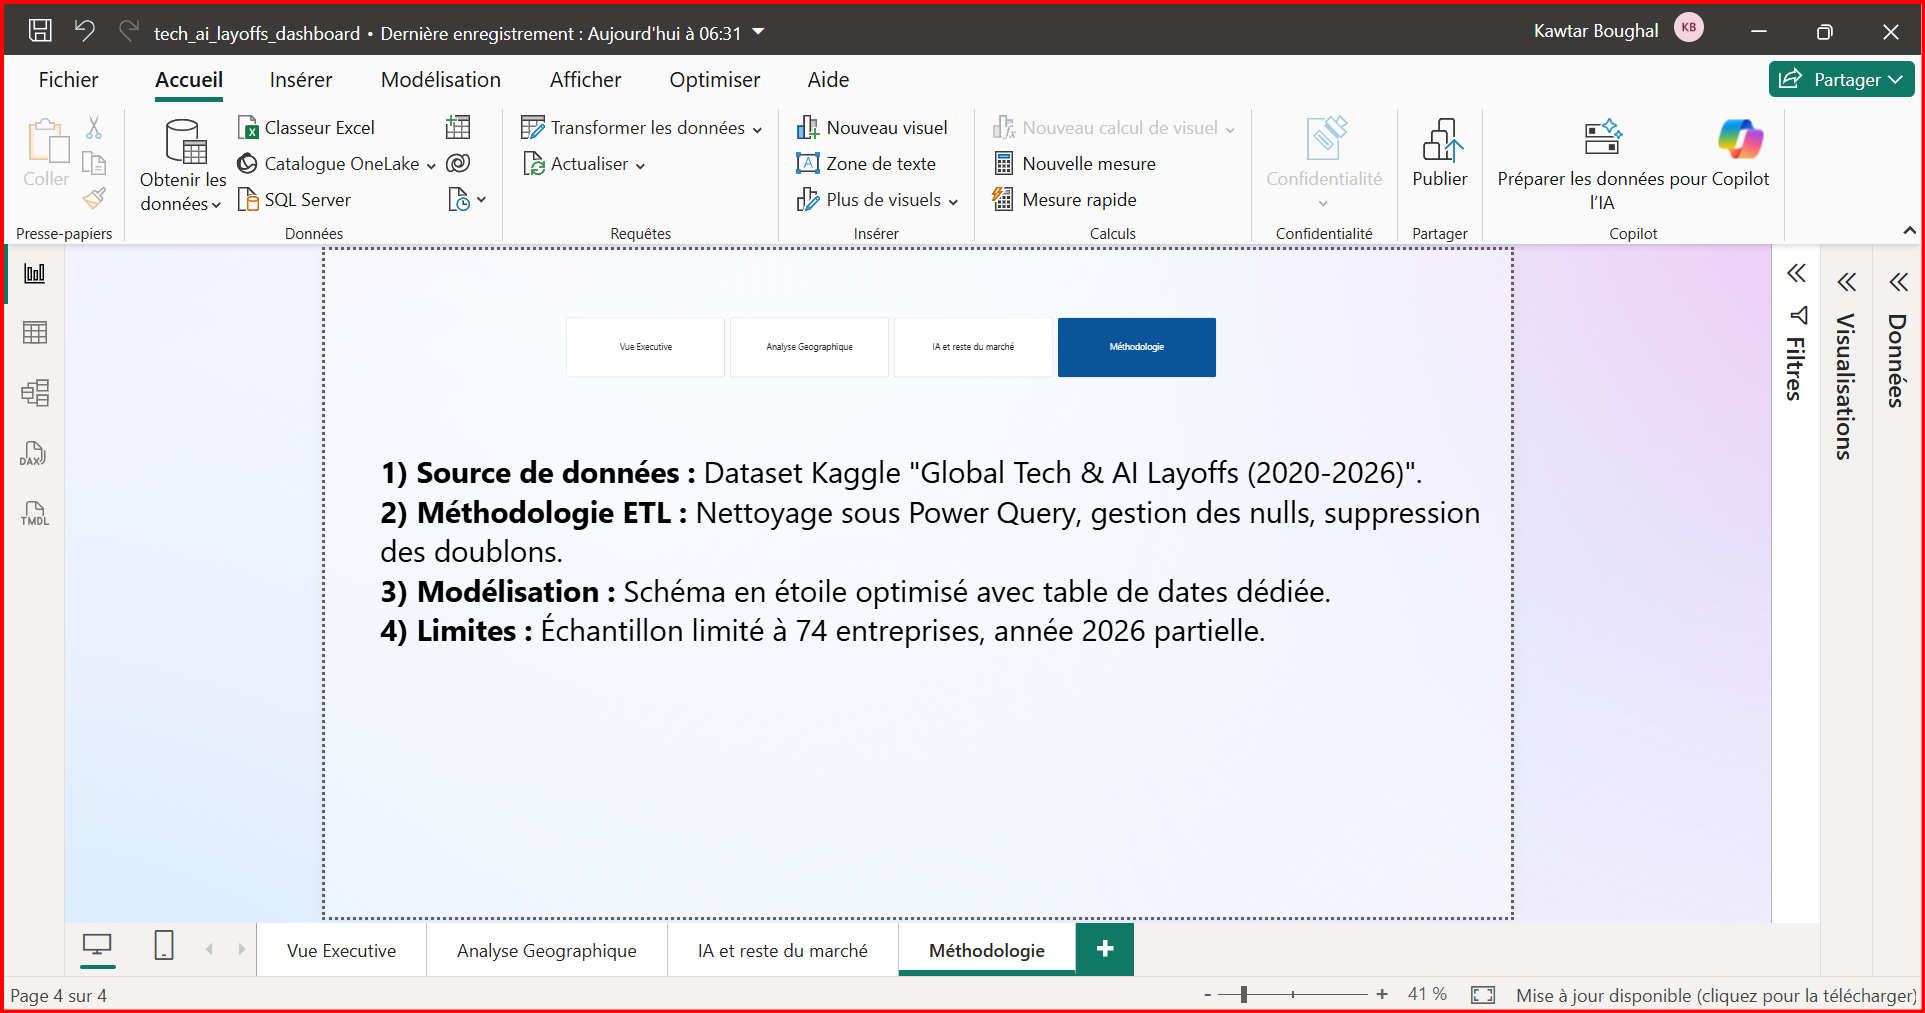

The dashboard page shown, as its layout file describes it:
{"tool":"powerbi","page":{"name":"Méthodologie","canvas":[1920,1080],"ordinal":3},"visuals":[{"type":"textbox","box":[36.7,326.7,1840,410],"z":0},{"type":"pageNavigator","box":[390,110,1055,97.5],"z":1000}]}

Visuals, with their boxes on the page's 1920x1080 design canvas (x1, y1, x2, y2). These are canvas units, not pixel positions in the 1925x1013 screenshot, which may show the page scaled, cropped or inside an application window:
textbox: l=37, t=327, r=1877, b=737
pageNavigator: l=390, t=110, r=1445, b=208
